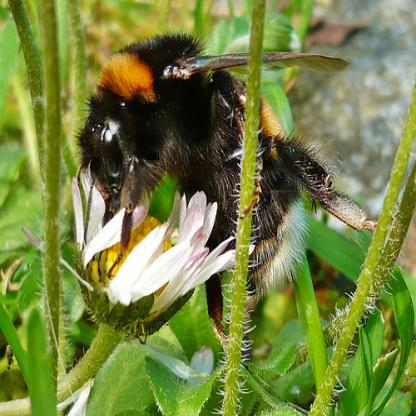ASTER: (49, 126, 241, 336)
